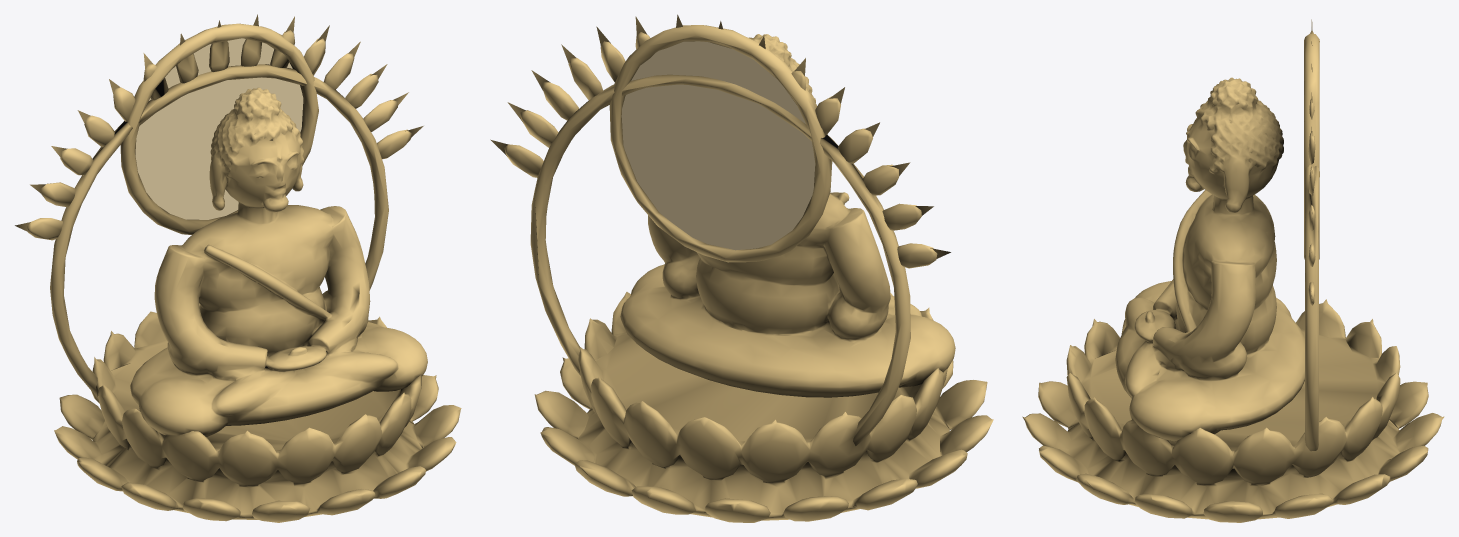
The model's file is buddha.glb.
The picture shows the model from 3 angles, left to right: view 1: azimuth 30°, elevation 25°; view 2: azimuth 150°, elevation 25°; view 3: azimuth 270°, elevation 25°; orthographic projection. The views are drawn at different scales.
Visible parts, largest first — view 1: buddha, throne, halo, haloGlow; view 2: throne, buddha, halo, haloGlow; view 3: throne, buddha, halo.
Boxes of the visible parts, x1=… form: buddha: x1=130, y1=87, x2=427, y2=436; throne: x1=54, y1=303, x2=461, y2=522; halo: x1=15, y1=14, x2=423, y2=396; haloGlow: x1=135, y1=38, x2=303, y2=219; throne: x1=534, y1=292, x2=993, y2=522; buddha: x1=620, y1=34, x2=955, y2=397; halo: x1=490, y1=14, x2=950, y2=445; haloGlow: x1=621, y1=41, x2=815, y2=250; throne: x1=1022, y1=297, x2=1444, y2=522; buddha: x1=1115, y1=77, x2=1304, y2=441; halo: x1=1304, y1=19, x2=1319, y2=451.
Bounding box in the file's own units: 2.78 × 2.63 × 2.42.
